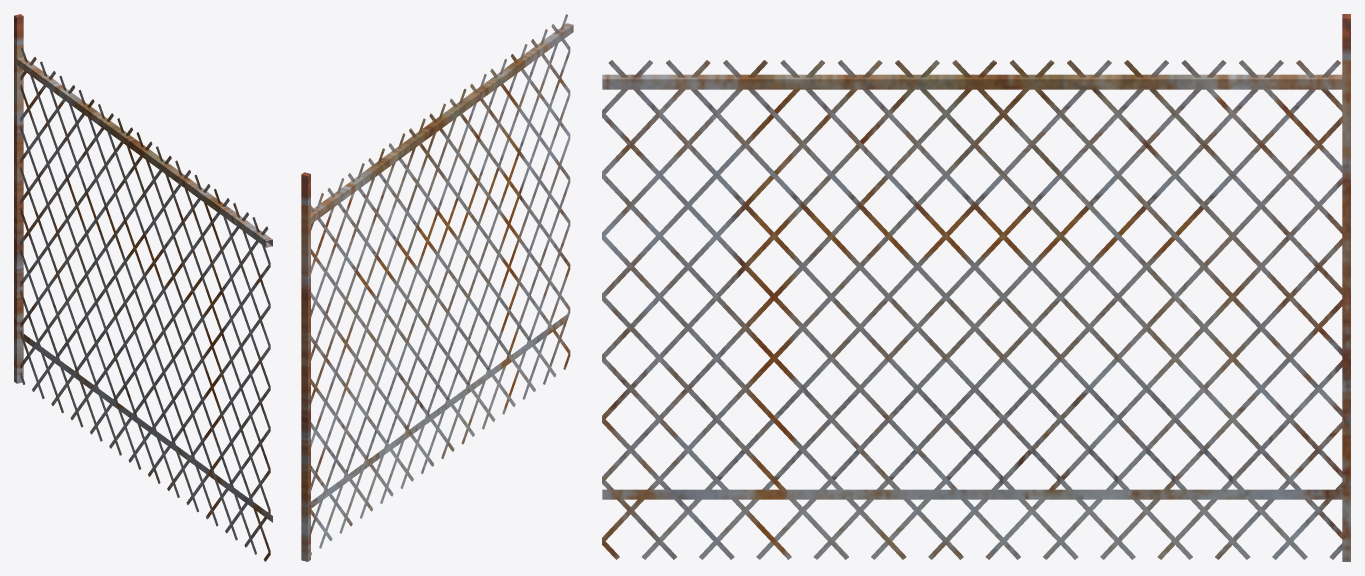
Rendered from reja.fbx.
3 views of the same model, side by side, from view 1: azimuth 30°, elevation 25°; view 2: azimuth 150°, elevation 25°; view 3: azimuth 270°, elevation 25° (orthographic). The views are drawn at different scales.
Parts seen in each view (by area): view 1: reja; view 2: reja; view 3: reja.
Part boxes in pixels (<box>): reja: <box>14,14,272,561</box>; reja: <box>301,14,573,561</box>; reja: <box>602,14,1350,561</box>.
Bounding box in the file's own units: 6.09 × 329 × 411.
